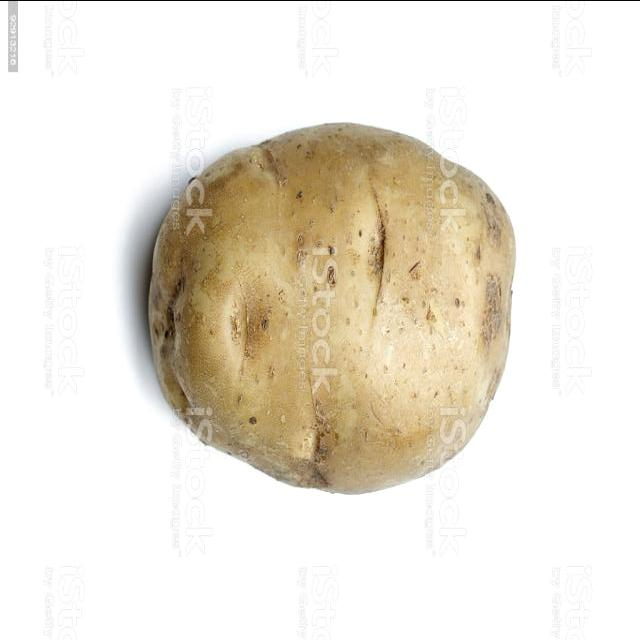potato: (147, 128, 512, 495)
